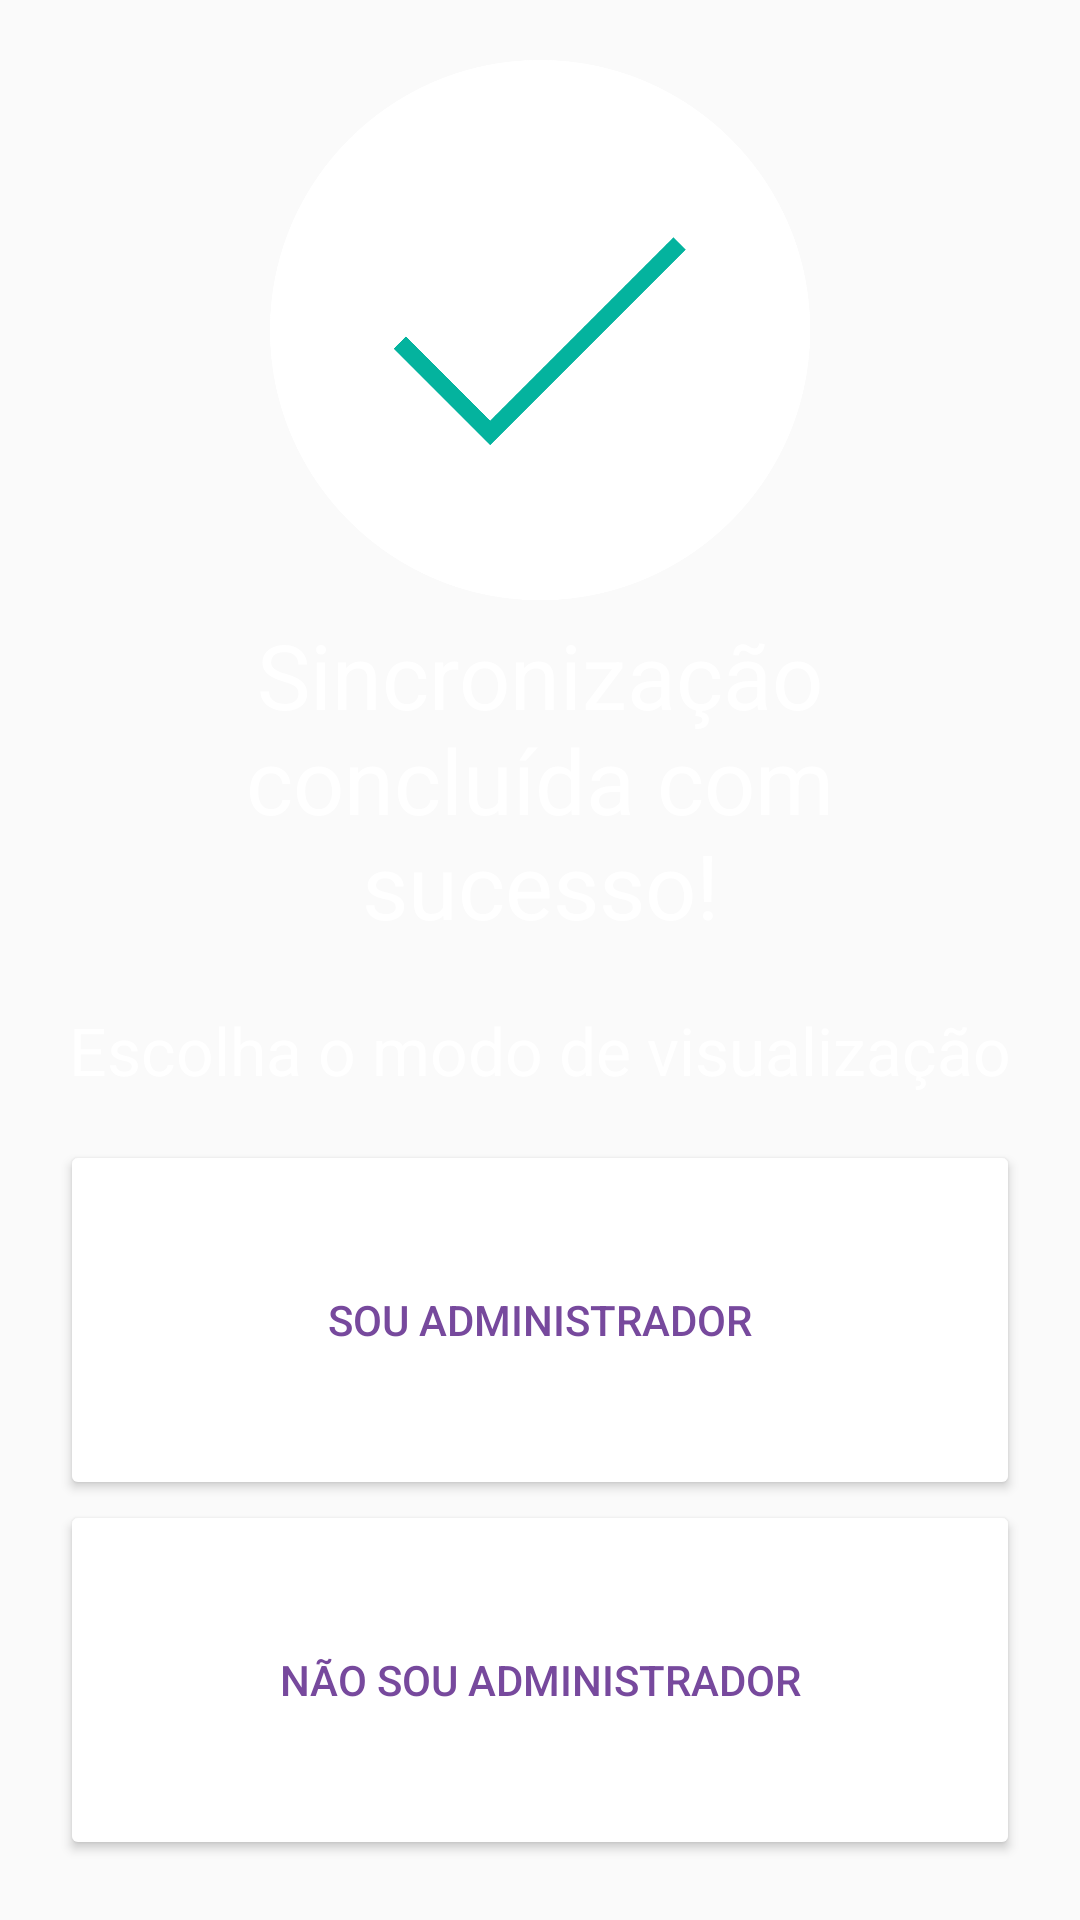

Named icons in this screenshot (1080x1920) and their centers, point (x, y):
check: point (540, 341)
